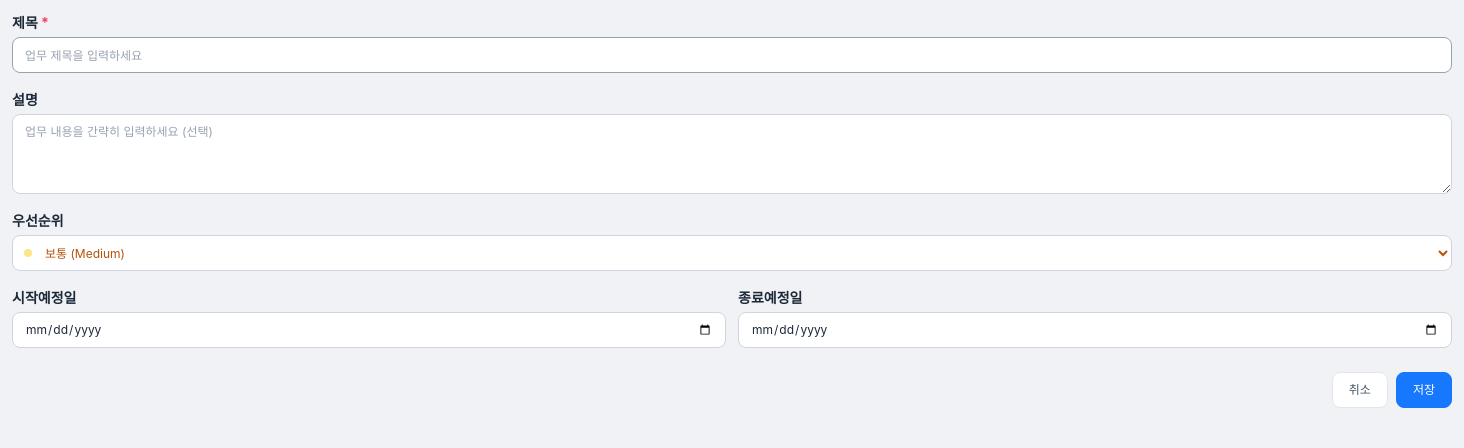
Test: TicketForm › C004-4: 과거 종료예정일 › "종료예정일은 오늘 이후 날짜를 선택해주세요" 에러가 표시된다
The image size is (1464, 448).
Type "테스트 제목" into the field labelled "제목 *". click: (732, 55)
box: left=12, top=37, right=1452, bottom=73
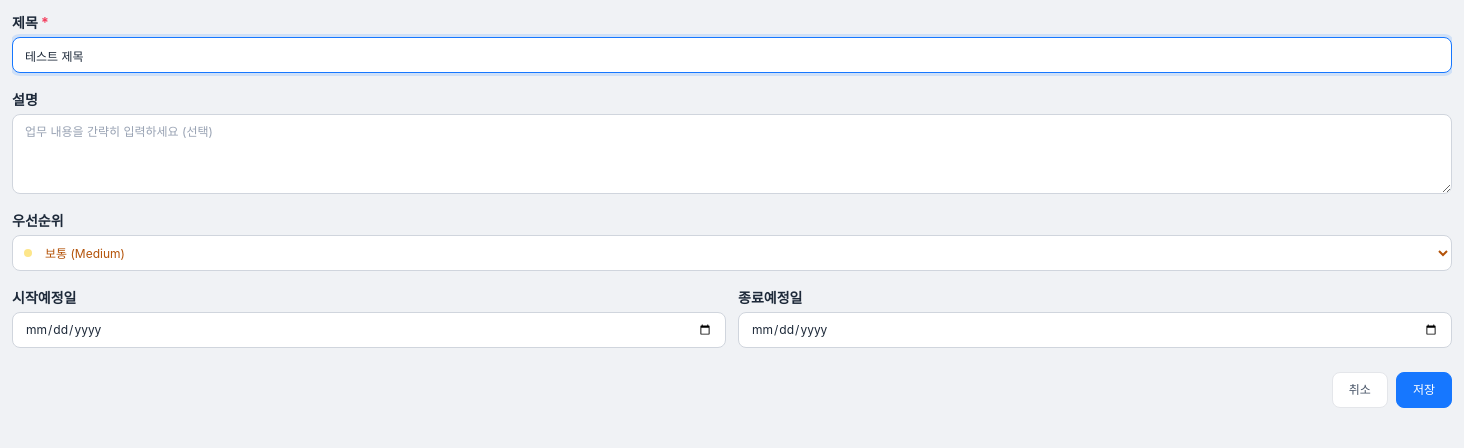
Type "2020-01-01" into the date field labelled "종료예정일". click: (1095, 330)
box: left=738, top=312, right=1452, bottom=348
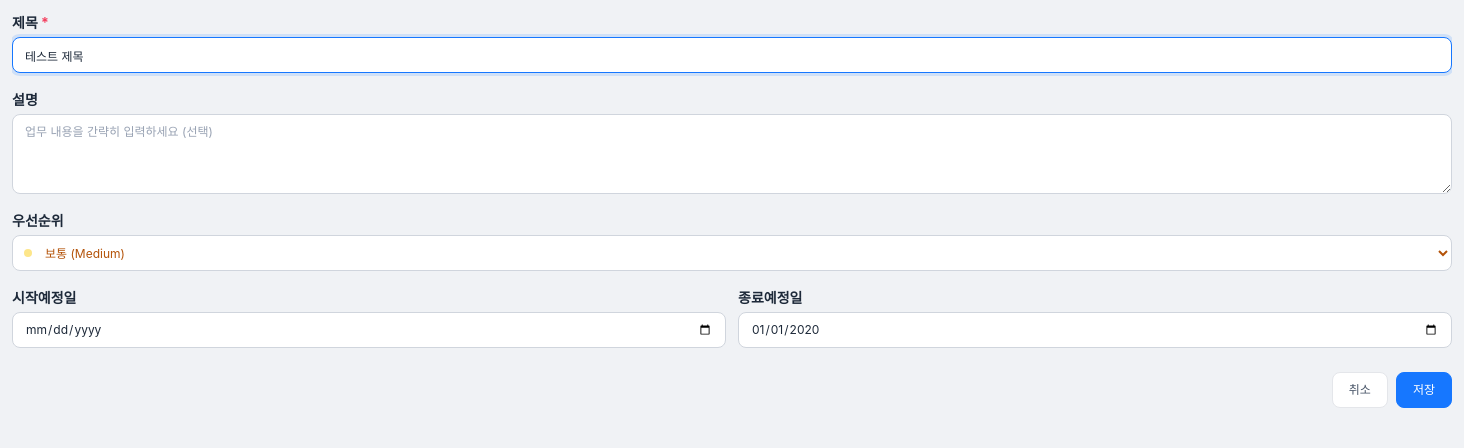
Click the button "저장". click: (1424, 390)
box: left=1396, top=372, right=1452, bottom=408
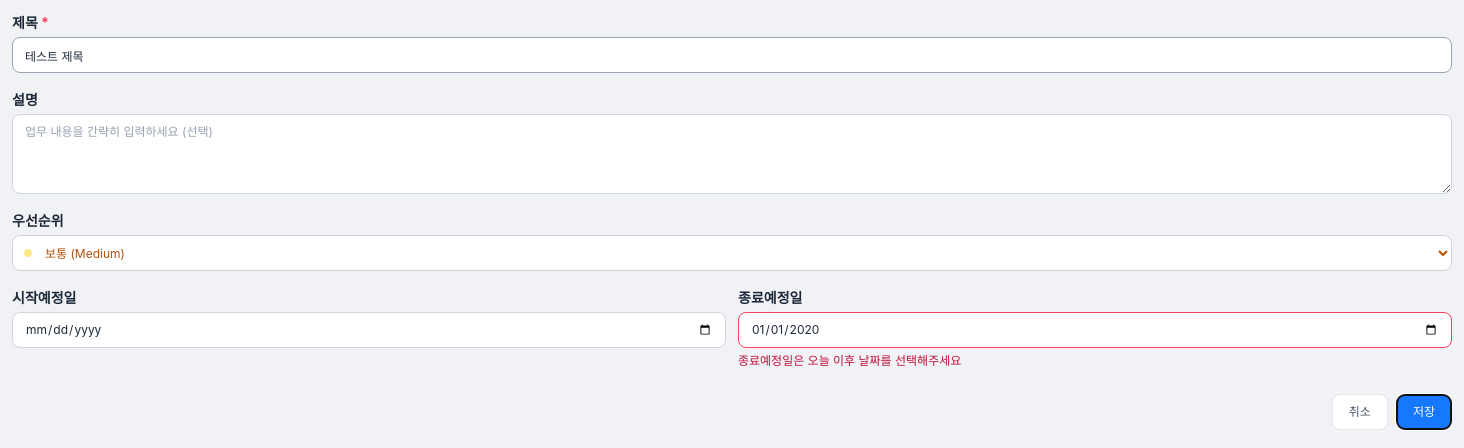
Now the text "종료예정일은 오늘 이후 날짜를 선택해주세요" is shown, box left=738, top=353, right=961, bottom=368
